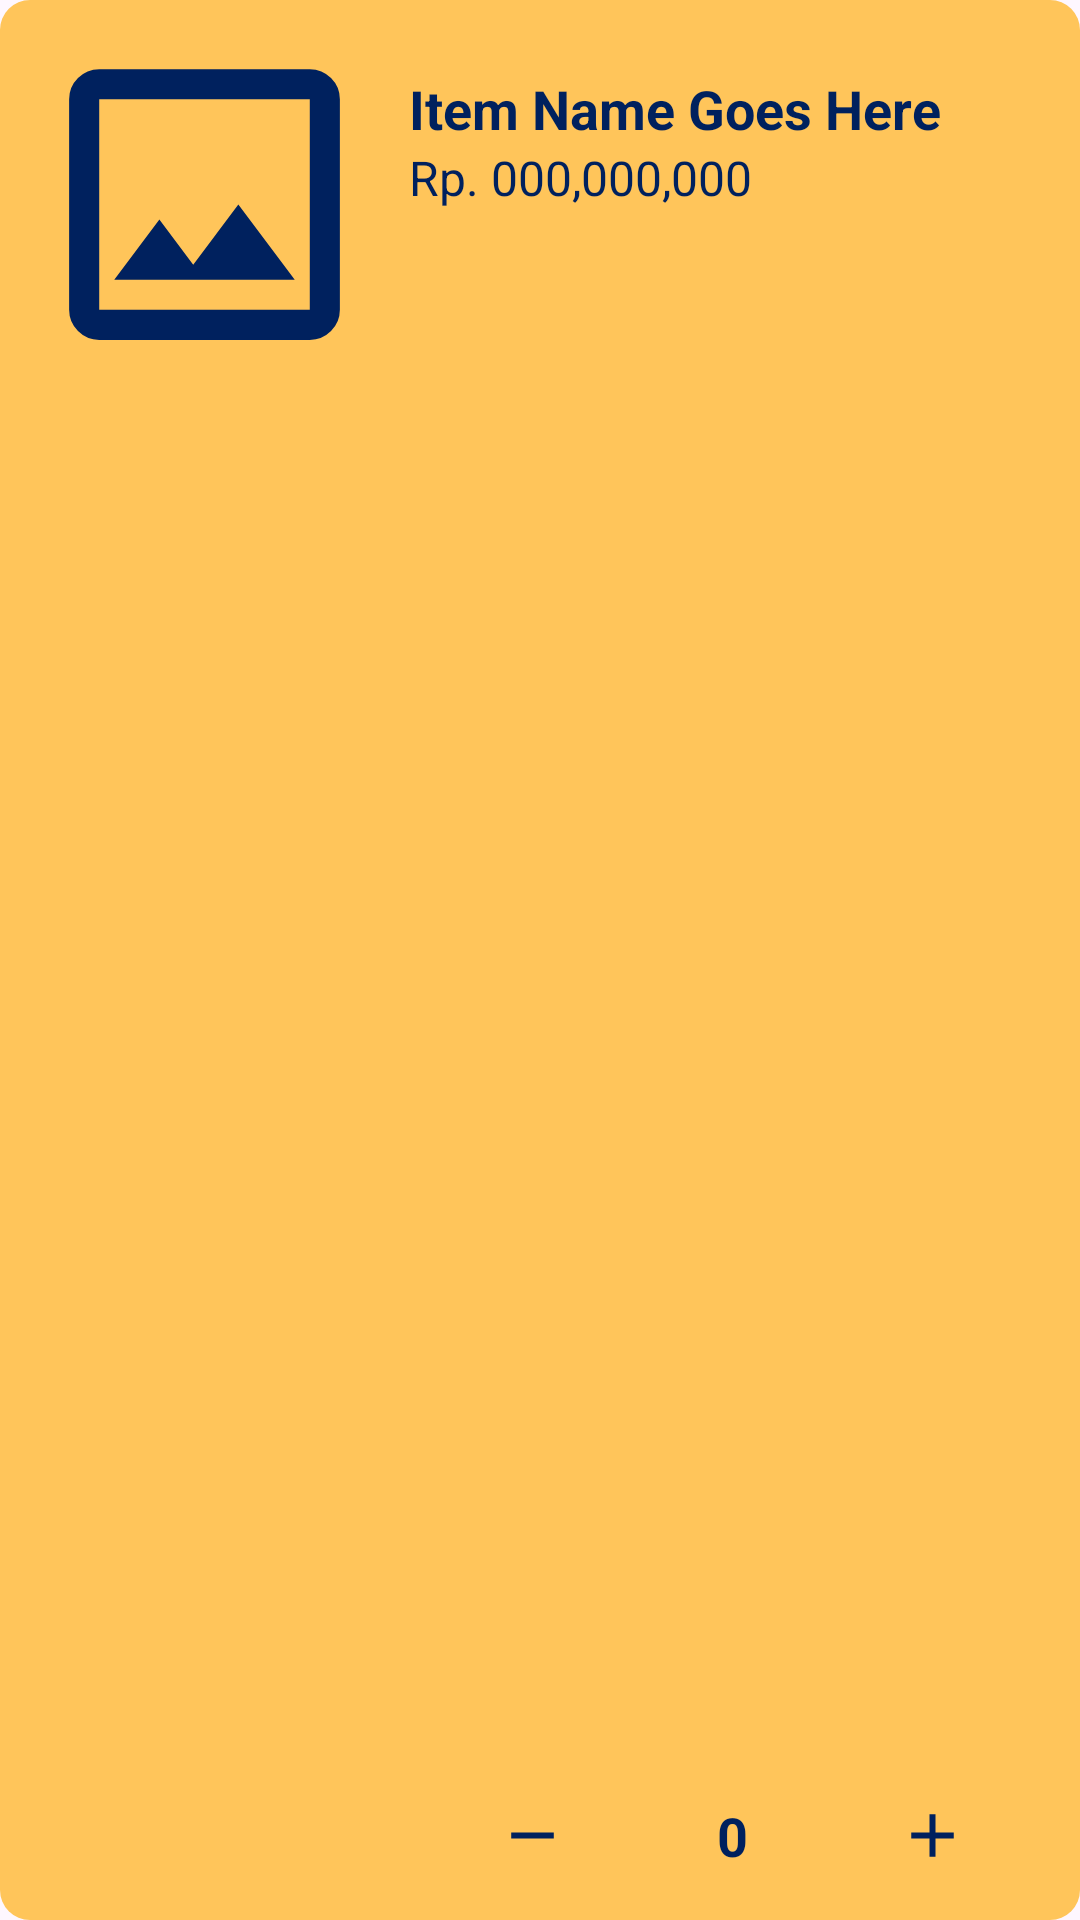

Where icons sit on this 1080px×1920px app screen, as (x1, y1, x2, y2):
noimg: (69, 69, 340, 340)
plus: (911, 1814, 954, 1857)
